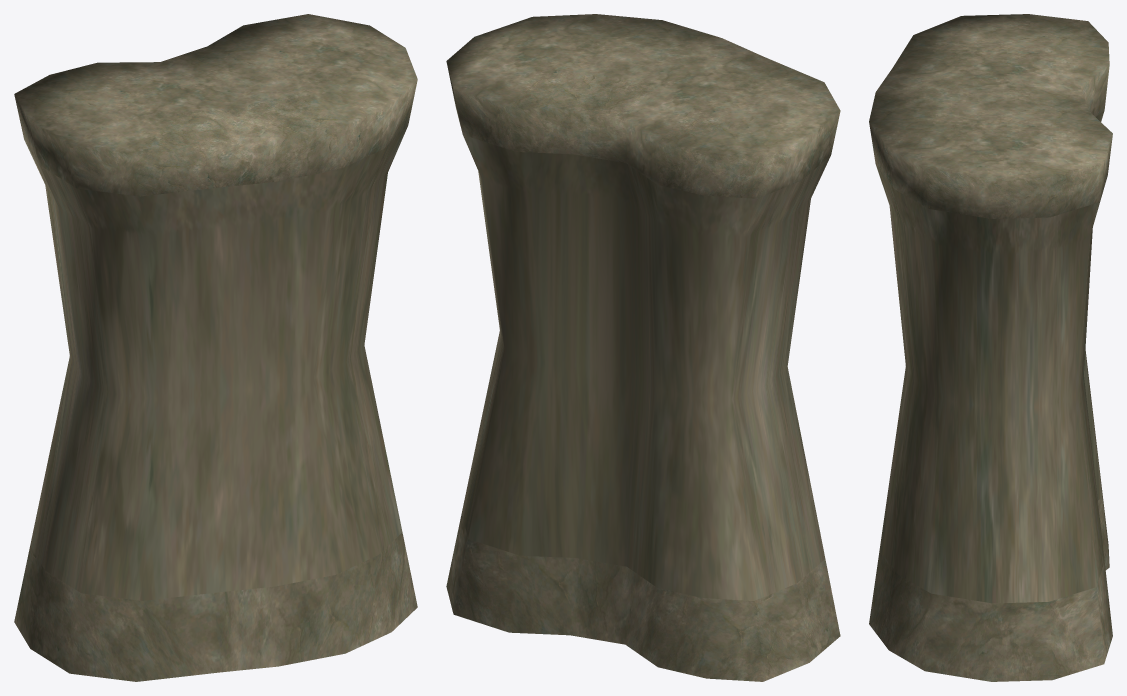
Rendered from INST_OH_MAZE_PILLARB.fbx.
3 renders of one model, left to right at view 1: azimuth 30°, elevation 25°; view 2: azimuth 150°, elevation 25°; view 3: azimuth 270°, elevation 25°, orthographic. The views are drawn at different scales.
Visible parts, largest first — view 1: INST_OH_MAZE_PILLARB; view 2: INST_OH_MAZE_PILLARB; view 3: INST_OH_MAZE_PILLARB.
Part boxes in pixels (box(x1,y1,x2,y2)): INST_OH_MAZE_PILLARB: box(14, 14, 417, 681); INST_OH_MAZE_PILLARB: box(446, 14, 840, 681); INST_OH_MAZE_PILLARB: box(869, 14, 1112, 681).
Bounding box in the file's own units: 44717 × 64030 × 27873.
Materials: 1 (1 with a texture image).
